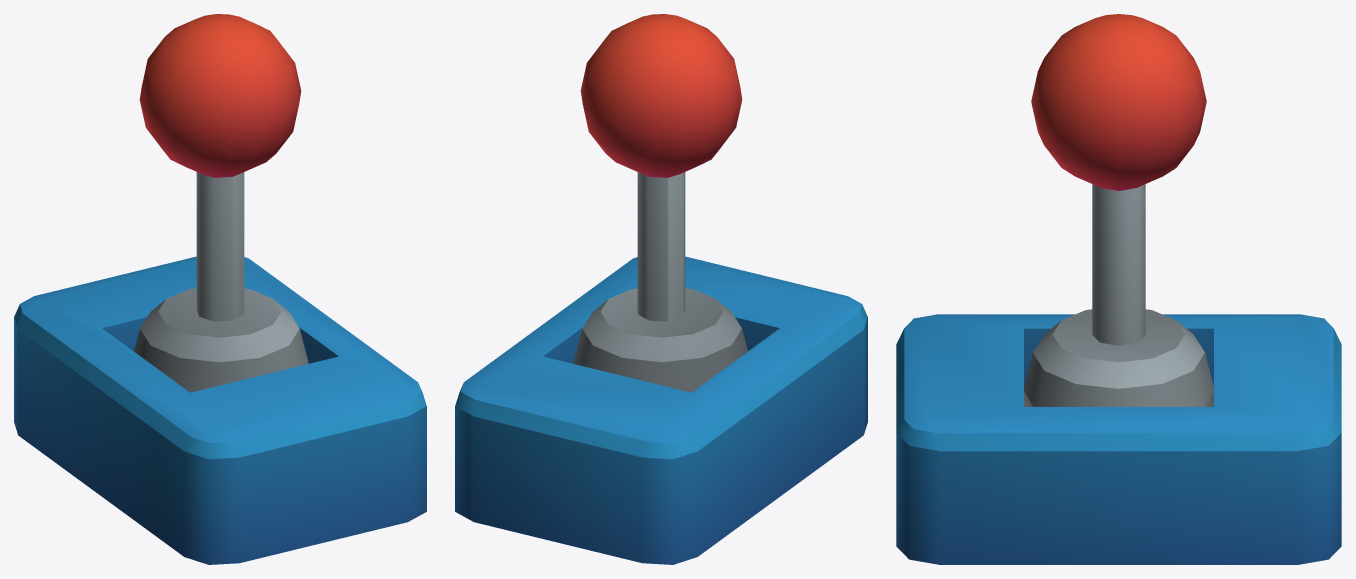
The model's file is joystick.glb.
The picture shows the model from 3 angles, left to right: view 1: azimuth 30°, elevation 25°; view 2: azimuth 150°, elevation 25°; view 3: azimuth 270°, elevation 25°; orthographic projection. The views are drawn at different scales.
Visible parts, largest first — view 1: base, lever; view 2: base, lever; view 3: base, lever.
Boxes of the visible parts, x1,y1,x2,y2 form: base: (14,256,426,564); lever: (139,14,301,321); base: (455,256,867,564); lever: (580,14,742,321); base: (896,309,1341,564); lever: (1031,14,1206,345).
Bounding box in the file's own units: 0.8 × 1.43 × 1.2.
Materials: 3 (3 with a texture image).
